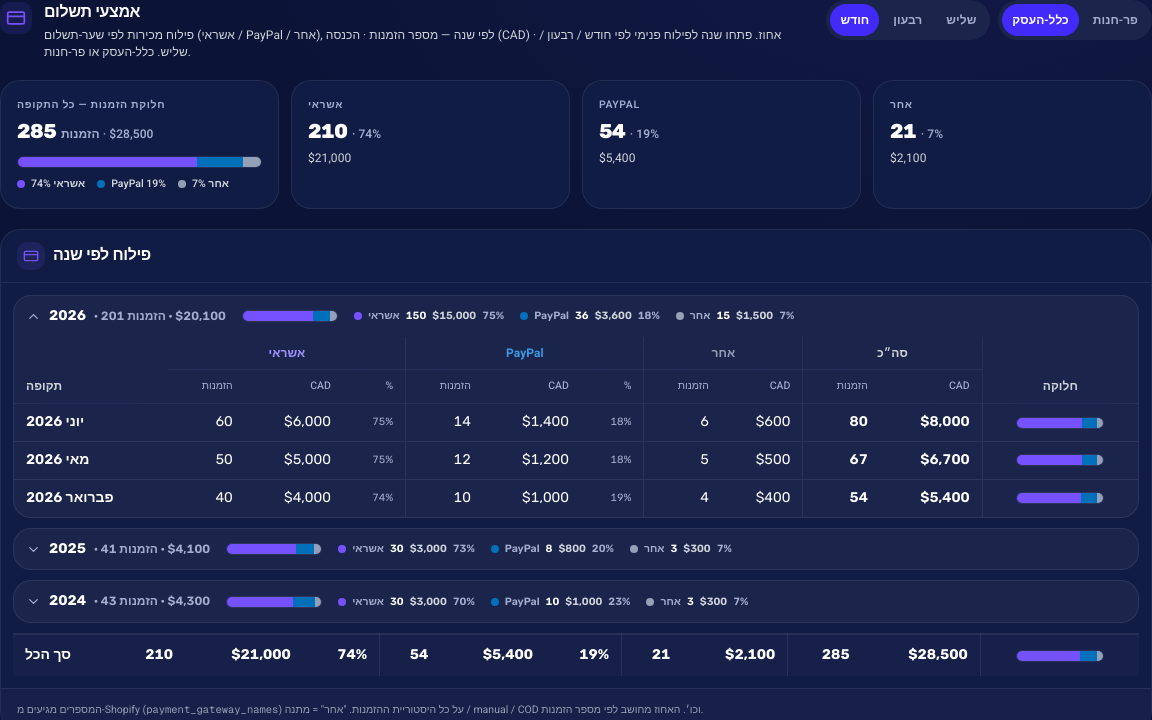
Scenario: PaymentMethodsTab — granularity toggle re-groups sub-rows › switching to third groups 2026 sub-rows into T1 / T2
Click the radio button with test id "pm-gran-third" at (961, 20), box [936,4,986,36]
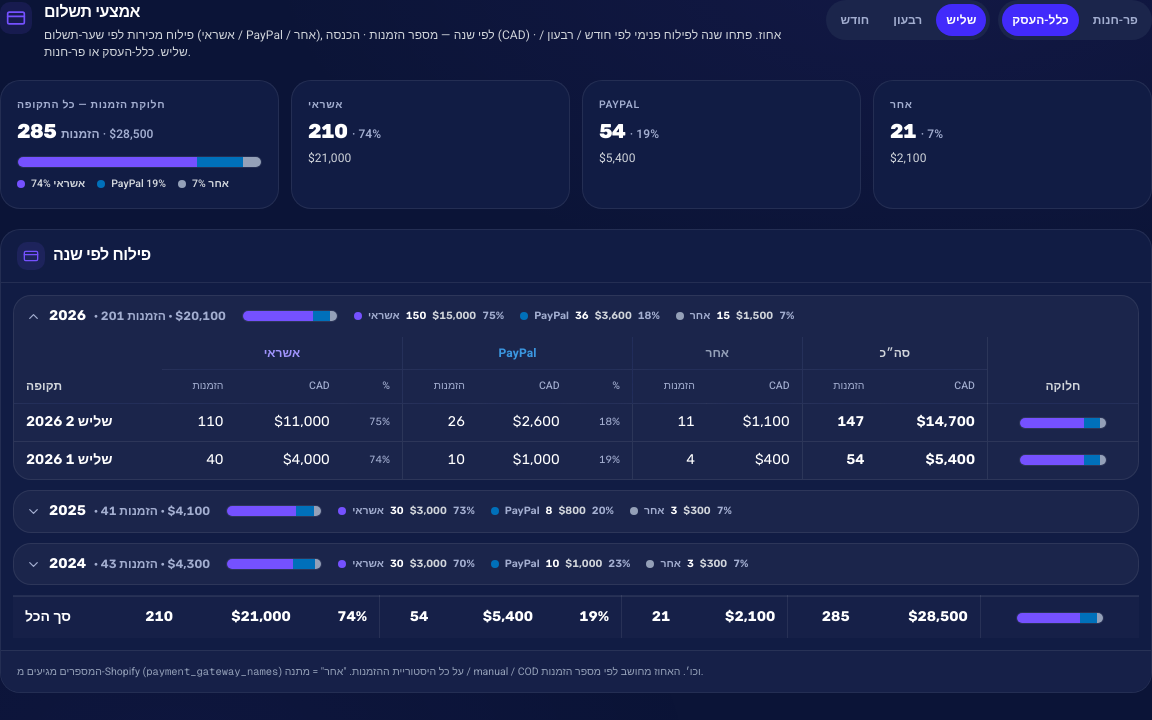
Check: the row with test id "pm-period-2026-T1" is shown, box [14,442,1138,479]
Check: the row with test id "pm-period-2026-T2" is shown, box [14,404,1138,442]
Check: the row with test id "pm-period-2026-05" is gone
